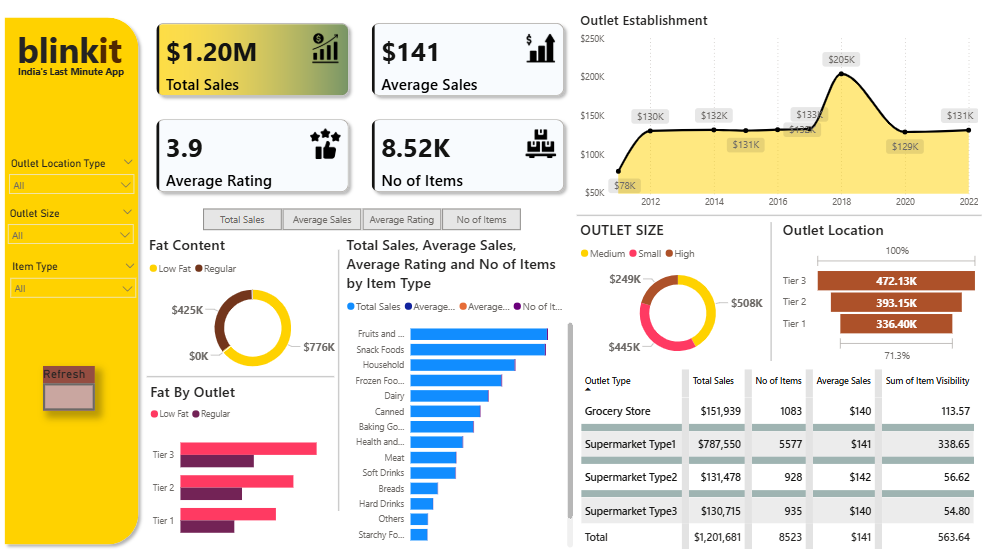

What the dashboard file says about the page in this screenshot:
{"tool":"powerbi","page":{"name":"Page 1","canvas":[1400,800],"ordinal":0},"visuals":[{"type":"shape","box":[20,28,204,750],"z":0},{"type":"group","id":"g1","title":"Group 1","box":[18.2,43.5,207.3,87.3],"z":1000},{"type":"textbox","box":[18.2,43.5,205.6,87.3],"z":2000,"group":"g1"},{"type":"cardVisual","fields":{"Data":["BlinkIT Grocery Data.Total Sales","BlinkIT Grocery Data.Average Sales","BlinkIT Grocery Data.Average Rating","BlinkIT Grocery Data.No of Items"]},"box":[224,28,600,268],"z":2000},{"type":"textbox","box":[19.9,97.2,205.6,33.6],"z":3000,"group":"g1"},{"type":"donutChart","title":"Fat Content","fields":{"Y":["BlinkIT Grocery Data.Total Sales","BlinkIT Grocery Data.Average Sales","BlinkIT Grocery Data.Average Rating","BlinkIT Grocery Data.No of Items"],"Category":["BlinkIT Grocery Data.Item Fat Content"]},"box":[225.7,338.5,298.6,203.1],"z":3000},{"type":"slicer","fields":{"Values":["Matrix.Matrix"]},"box":[279.5,295.1,491.3,43.4],"z":4000},{"type":"clusteredBarChart","title":"Fat By Outlet","fields":{"Y":["BlinkIT Grocery Data.Total Sales"],"Category":["BlinkIT Grocery Data.Outlet Location Type"],"Series":["BlinkIT Grocery Data.Item Fat Content"]},"box":[227.4,541.7,298.6,236.1],"z":5000},{"type":"barChart","fields":{"Y":["BlinkIT Grocery Data.Total Sales","BlinkIT Grocery Data.Average Sales","BlinkIT Grocery Data.Average Rating","BlinkIT Grocery Data.No of Items"],"Category":["BlinkIT Grocery Data.Item Type"]},"box":[500,338.5,324.7,439.2],"z":6000},{"type":"lineChart","title":"Outlet Establishment","fields":{"Category":["BlinkIT Grocery Data.Outlet Establishment Year"],"Y":["BlinkIT Grocery Data.Total Sales"]},"box":[824.7,27.8,562.5,283],"z":7000},{"type":"shape","box":[487.9,359.4,12.2,362.8],"z":7001},{"type":"shape","box":[824.7,305.6,562.5,12.2],"z":7002},{"type":"shape","box":[227.4,529.5,260.4,12.2],"z":7003},{"type":"donutChart","title":"OUTLET SIZE","fields":{"Y":["BlinkIT Grocery Data.Total Sales"],"Category":["BlinkIT Grocery Data.Outlet Size"]},"box":[824.7,317.7,281.3,203.1],"z":7004},{"type":"shape","box":[1083.3,321.2,22.6,192.7],"z":7005},{"type":"funnel","title":"Outlet Location","fields":{"Y":["Sum(BlinkIT Grocery Data.Sales)"],"Category":["BlinkIT Grocery Data.Outlet Location Type"]},"box":[1106,318,282,203],"z":7006},{"type":"tableEx","fields":{"Values":["BlinkIT Grocery Data.Outlet Type","BlinkIT Grocery Data.Total Sales","BlinkIT Grocery Data.No of Items","BlinkIT Grocery Data.Average Sales","Sum(BlinkIT Grocery Data.Item Visibility)"]},"box":[824.7,520.8,574.7,279.5],"z":7007},{"type":"slicer","fields":{"Values":["BlinkIT Grocery Data.Outlet Location Type"]},"box":[25.7,225.7,194.3,70],"z":7008},{"type":"slicer","fields":{"Values":["BlinkIT Grocery Data.Outlet Size"]},"box":[25,295,195,70],"z":7009},{"type":"slicer","fields":{"Values":["BlinkIT Grocery Data.Item Type"]},"box":[28.3,370,195,70],"z":7010},{"type":"actionButton","title":"Refresh","box":[84,520,72,62],"z":7011}]}

Visuals, with their boxes in screenshot pixels (x1, y1, x2, y2), scaled from the page's 1400x800 canvas onto the 984x557 screenshot:
shape: l=14, t=19, r=157, b=542
"Group 1" group: l=13, t=30, r=158, b=91
textbox: l=13, t=30, r=157, b=91
cardVisual - BlinkIT Grocery Data.Total Sales x BlinkIT Grocery Data.Average Sales: l=157, t=19, r=579, b=206
textbox: l=14, t=68, r=158, b=91
"Fat Content" donutChart: l=159, t=236, r=369, b=377
slicer - Matrix.Matrix: l=196, t=205, r=542, b=236
"Fat By Outlet" clusteredBarChart: l=160, t=377, r=370, b=542
barChart - BlinkIT Grocery Data.Total Sales x BlinkIT Grocery Data.Average Sales: l=351, t=236, r=580, b=541
"Outlet Establishment" lineChart: l=580, t=19, r=975, b=216
shape: l=343, t=250, r=351, b=503
shape: l=580, t=213, r=975, b=221
shape: l=160, t=369, r=343, b=377
"OUTLET SIZE" donutChart: l=580, t=221, r=777, b=363
shape: l=761, t=224, r=777, b=358
"Outlet Location" funnel: l=777, t=221, r=976, b=363
tableEx - BlinkIT Grocery Data.Outlet Type x BlinkIT Grocery Data.Total Sales: l=580, t=363, r=983, b=556
slicer - BlinkIT Grocery Data.Outlet Location Type: l=18, t=157, r=155, b=206
slicer - BlinkIT Grocery Data.Outlet Size: l=18, t=205, r=155, b=254
slicer - BlinkIT Grocery Data.Item Type: l=20, t=258, r=157, b=306
"Refresh" actionButton: l=59, t=362, r=110, b=405
